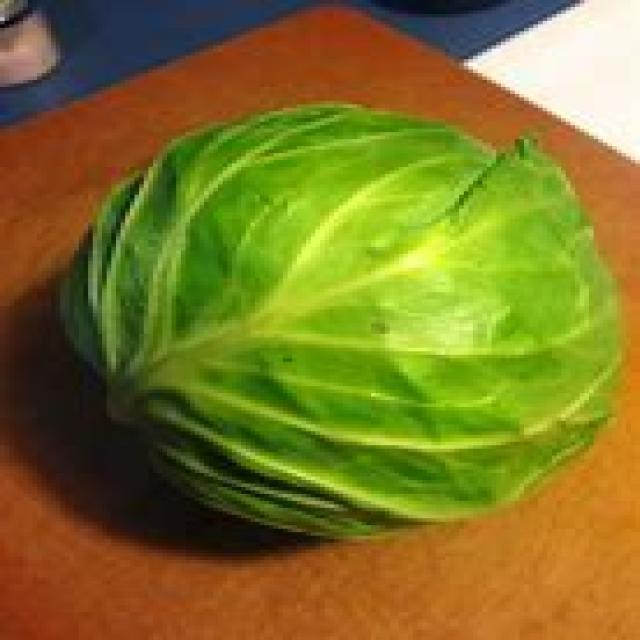cabbage: (79, 103, 614, 546)
